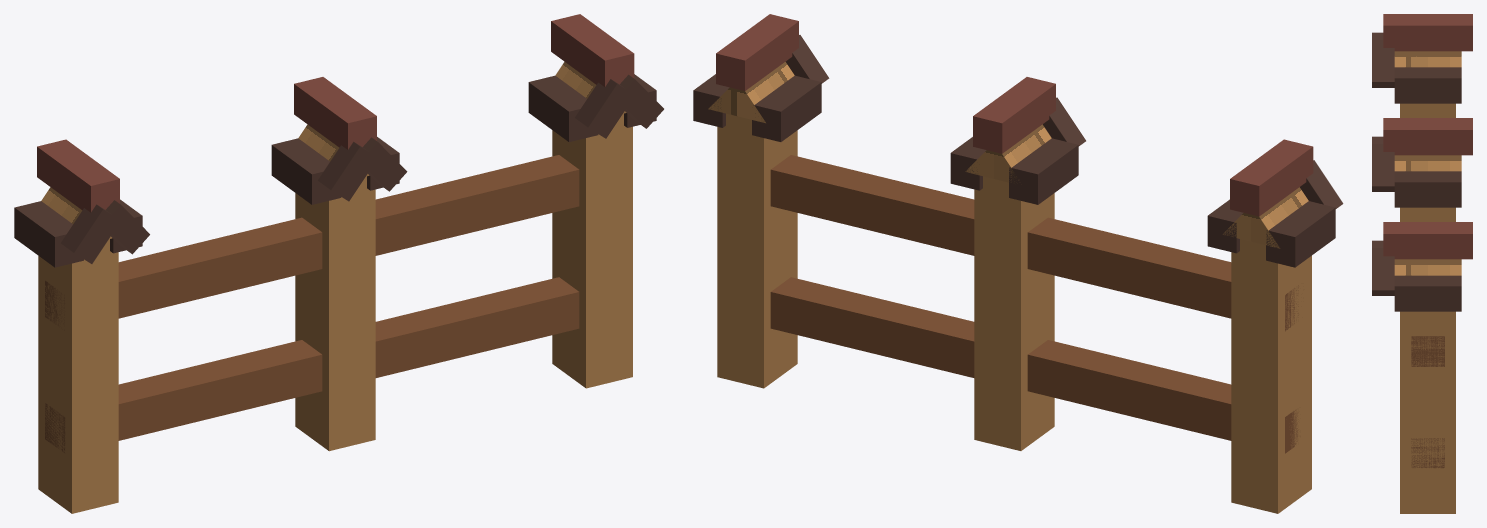
Rendered from fence.glb.
The picture shows the model from 3 angles, left to right: view 1: azimuth 30°, elevation 25°; view 2: azimuth 150°, elevation 25°; view 3: azimuth 270°, elevation 25°; orthographic projection. The views are drawn at different scales.
Visible parts, largest first — view 1: village_fence; view 2: village_fence; view 3: village_fence.
Boxes of the visible parts, box(x1,y1,x2,y2) form: village_fence: box(14, 14, 663, 513); village_fence: box(693, 14, 1343, 513); village_fence: box(1372, 14, 1472, 513).
Bounding box in the file's own units: 51.5 × 27.25 × 9.
Materials: 5 (1 with a texture image).
